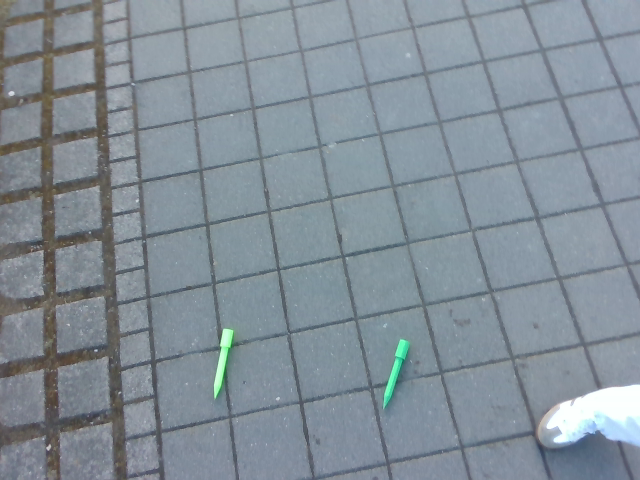Probe: (377, 329, 415, 415), (211, 323, 238, 409)
